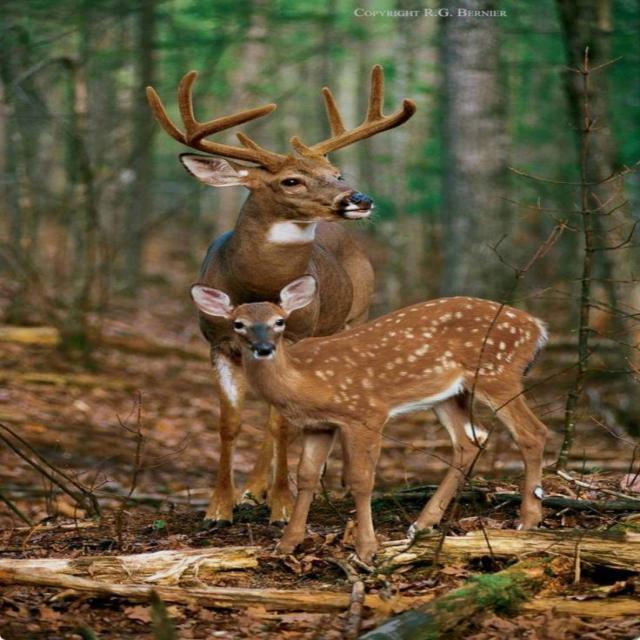L-F: (302, 98, 418, 162)
L-G1: (290, 135, 309, 156)
L-G2: (321, 86, 348, 138)
L-G3: (363, 63, 385, 124)
R-F: (187, 103, 290, 174)
R-G1: (236, 131, 265, 151)
R-G2: (143, 85, 186, 146)
R-G3: (176, 68, 200, 133)
